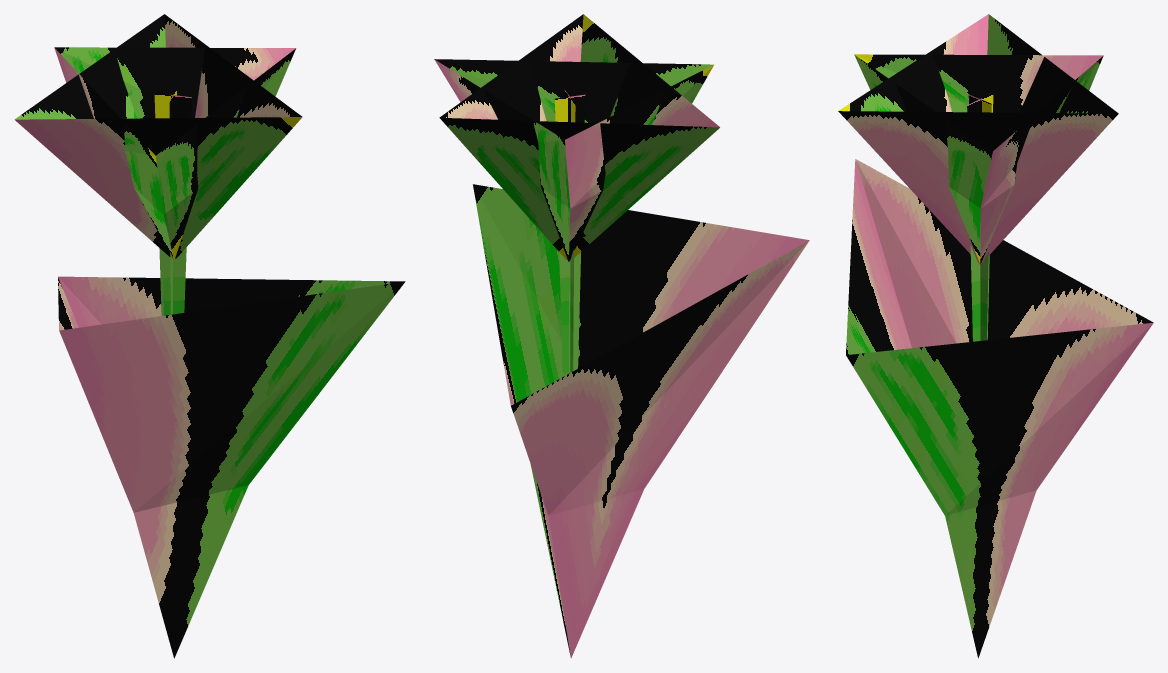
Rendered from pflower_pink.obj.
3 views of the same model, side by side, from view 1: azimuth 30°, elevation 25°; view 2: azimuth 150°, elevation 25°; view 3: azimuth 270°, elevation 25° (orthographic).
Visible parts, largest first — view 1: Ohana_highVert.bin; view 2: Ohana_highVert.bin; view 3: Ohana_highVert.bin.
Boxes of the visible parts, box(x1,y1,x2,y2) form: Ohana_highVert.bin: box(14, 14, 405, 658); Ohana_highVert.bin: box(434, 14, 809, 658); Ohana_highVert.bin: box(838, 14, 1153, 658).
Size of the model in its own units: 36.74 by 59.5 by 29.57.
Materials: 1 (1 with a texture image).
